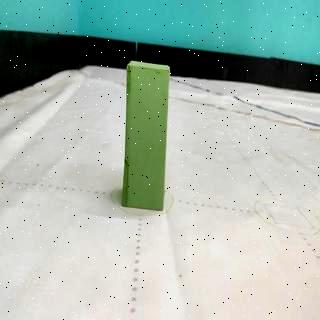greenbox: (121, 58, 170, 214)
